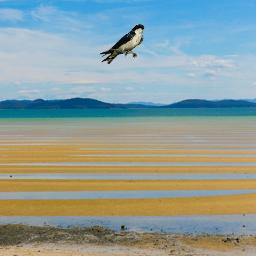Swallow: (98, 24, 145, 64)
